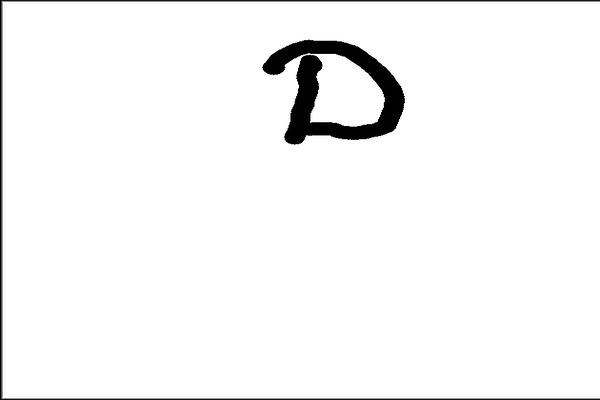D: (258, 26, 409, 149)
